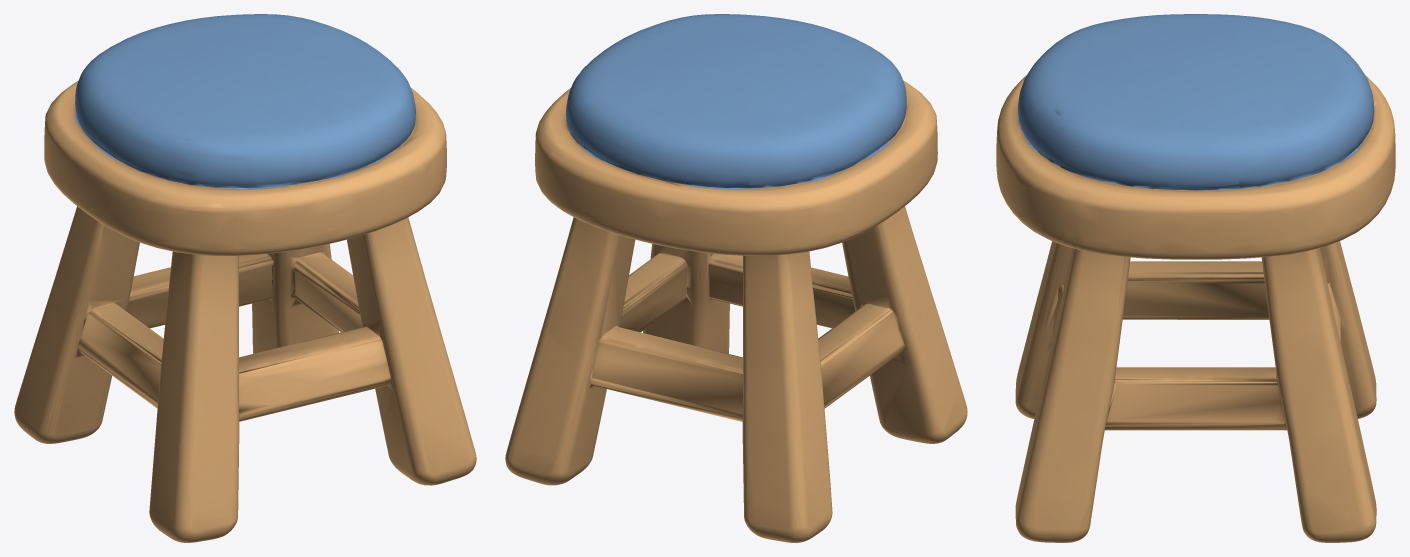
File: chair.glb
3 views of the same model, side by side, from view 1: azimuth 30°, elevation 25°; view 2: azimuth 150°, elevation 25°; view 3: azimuth 270°, elevation 25° (orthographic). The views are drawn at different scales.
Visible parts, largest first — view 1: chair_mesh; view 2: chair_mesh; view 3: chair_mesh.
Boxes of the visible parts, x1,y1,x2,y2 form: chair_mesh: [14, 14, 476, 542]; chair_mesh: [505, 14, 967, 542]; chair_mesh: [996, 14, 1395, 542].
Size of the model in its own units: 0.5526 by 0.6199 by 0.5567.
1 material, 1 textured.
